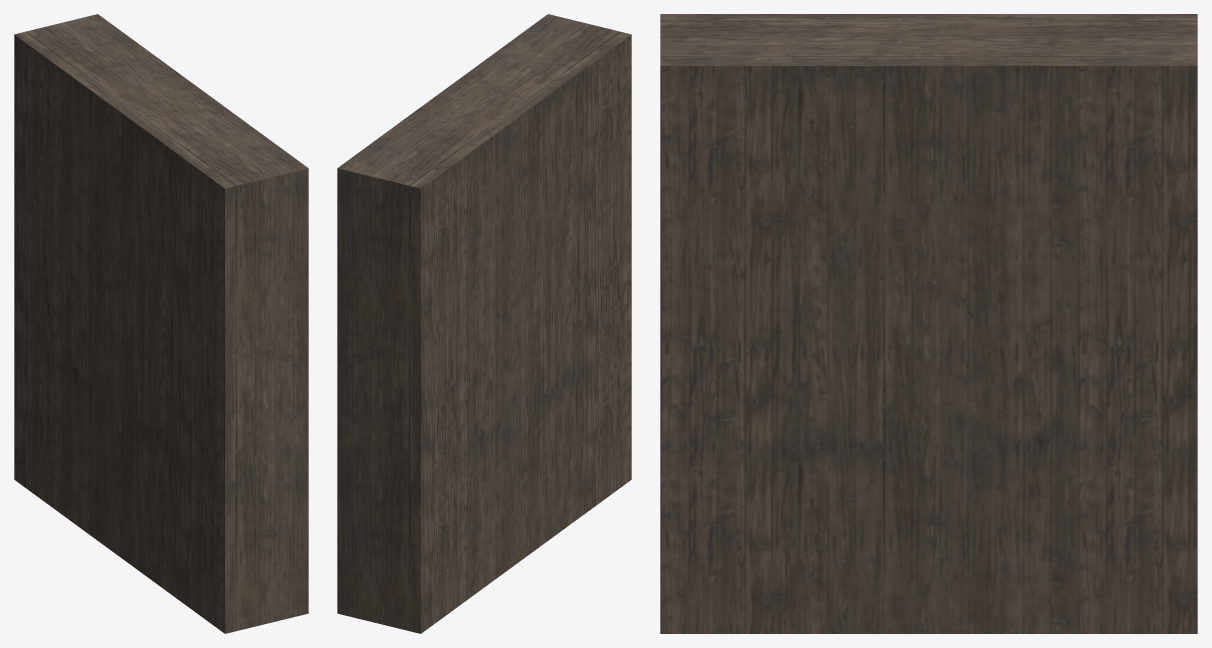
File: murek drewno.fbx
3 renders of one model, left to right at view 1: azimuth 30°, elevation 25°; view 2: azimuth 150°, elevation 25°; view 3: azimuth 270°, elevation 25°, orthographic. The views are drawn at different scales.
Parts seen in each view (by area): view 1: Box001; view 2: Box001; view 3: Box001.
Part boxes in pixels (left/top/right/bottom): Box001: left=14, top=14, right=308, bottom=633; Box001: left=337, top=14, right=631, bottom=633; Box001: left=660, top=14, right=1197, bottom=633.
Size of the model in its own units: 12.23 by 62.31 by 53.44.
